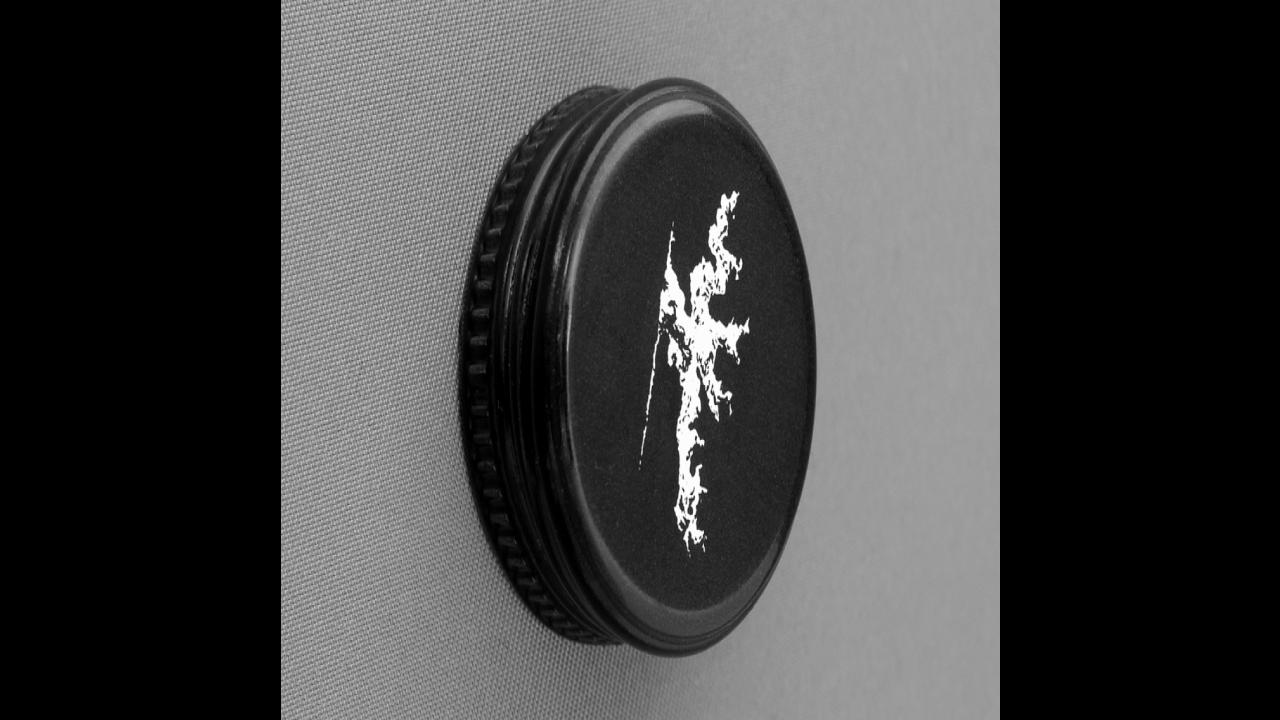bottle_cap: (456, 71, 820, 660)
